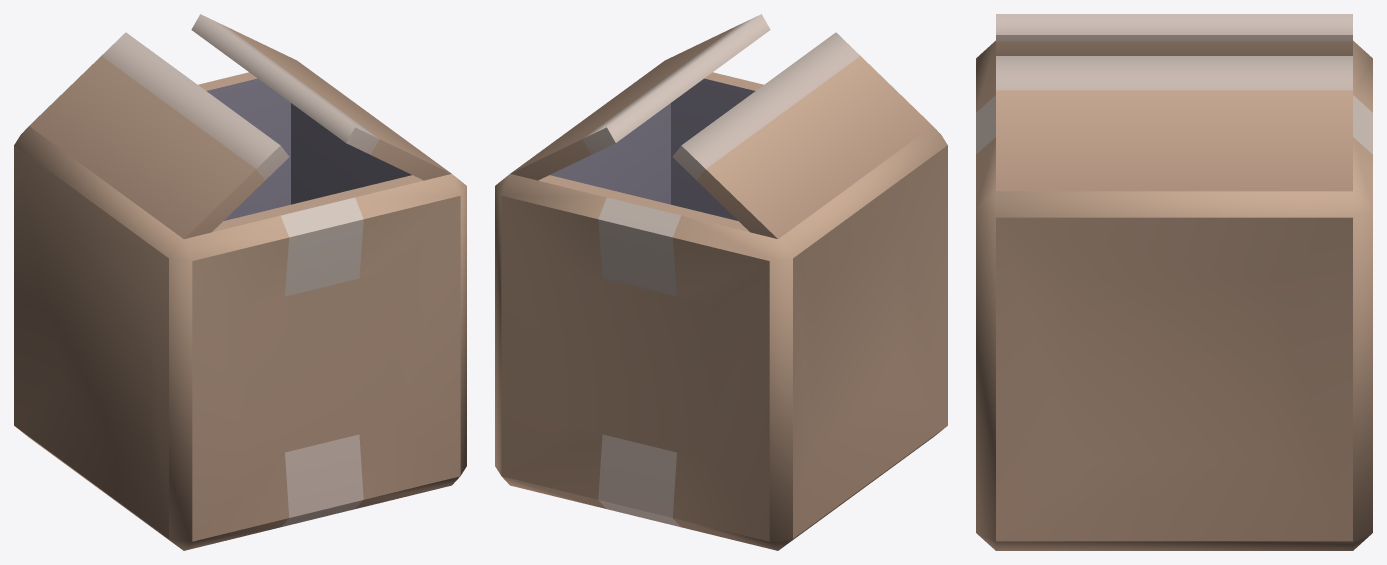
File: cardboard-box-open_0.glb
The picture shows the model from 3 angles, left to right: view 1: azimuth 30°, elevation 25°; view 2: azimuth 150°, elevation 25°; view 3: azimuth 270°, elevation 25°; orthographic projection. The views are drawn at different scales.
Visible parts, largest first — view 1: cardboard-box-open; view 2: cardboard-box-open; view 3: cardboard-box-open.
Boxes of the visible parts, bbox=[...] form: cardboard-box-open: bbox=[14, 14, 466, 550]; cardboard-box-open: bbox=[495, 14, 947, 550]; cardboard-box-open: bbox=[976, 14, 1372, 550].
Bounding box in the file's own units: 0.375 × 0.4594 × 0.375.
